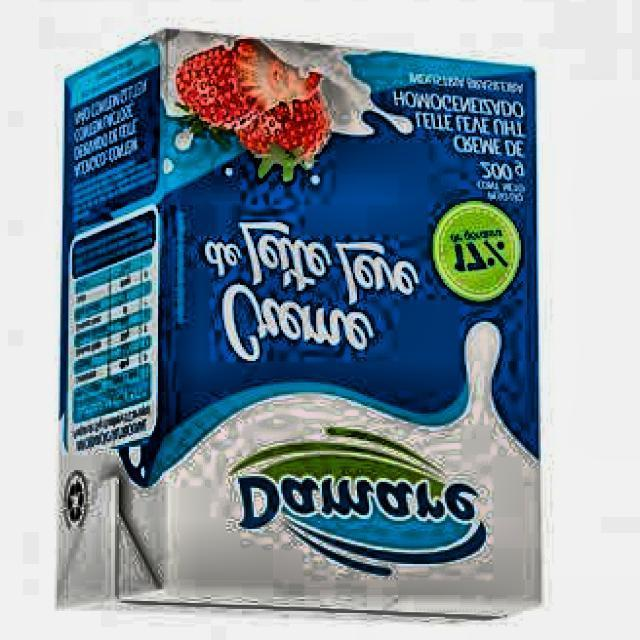cardboard: (55, 30, 542, 624)
